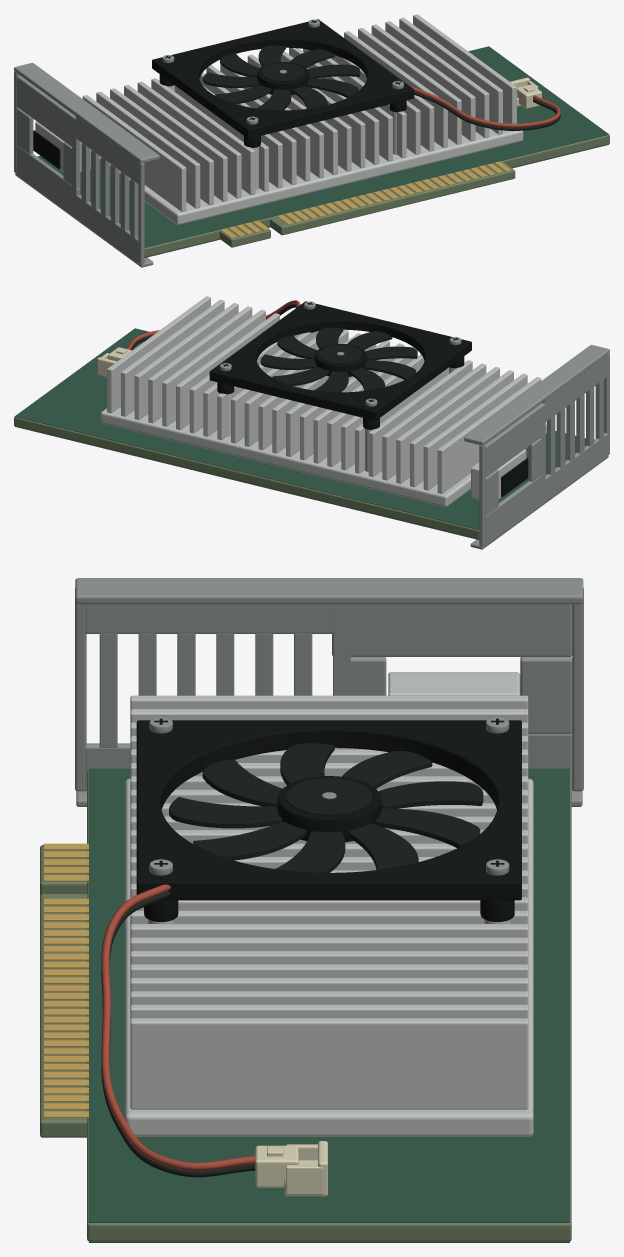
Rendered from gpu.glb.
3 views of the same model, one above another, from view 1: azimuth 30°, elevation 25°; view 2: azimuth 150°, elevation 25°; view 3: azimuth 270°, elevation 25° (orthographic). The views are drawn at different scales.
Visible parts, largest first — view 1: heatsink-fins, board-top, fan-housing, heatsink-base, connector-long, bracket-top-flange, bracket-port-rail.001, board-substrate, bracket-port-rail, bracket-vent-rail, bracket-vent-rail.001, fan-positive-wire (+26 smaller); view 2: heatsink-fins, board-top, fan-housing, heatsink-base, board-substrate, bracket-top-flange, bracket-port-rail.001, bracket-port-rail, bracket-vent-rail, bracket-vent-rail.001, bracket-side.001, display-port-shell (+22 smaller); view 3: heatsink-fins, board-top, fan-housing, heatsink-base, bracket-top-flange, bracket-port-rail.001, board-substrate, bracket-vent-rail.001, connector-long, bracket-port-side.001, fan-positive-wire, display-port-shell (+27 smaller).
Part boxes in pixels (bbox=[...]): heatsink-fins: bbox=[82, 14, 516, 211]; board-top: bbox=[37, 46, 608, 247]; fan-housing: bbox=[152, 19, 414, 138]; heatsink-base: bbox=[90, 128, 523, 224]; connector-long: bbox=[270, 162, 515, 235]; bracket-top-flange: bbox=[14, 63, 159, 163]; bracket-port-rail.001: bbox=[16, 75, 80, 150]; board-substrate: bbox=[144, 135, 609, 257]; bracket-port-rail: bbox=[16, 145, 80, 218]; bracket-vent-rail: bbox=[76, 194, 139, 264]; bracket-vent-rail.001: bbox=[75, 116, 138, 183]; fan-positive-wire: bbox=[409, 85, 560, 127]; heatsink-fins: bbox=[107, 296, 541, 493]; board-top: bbox=[15, 328, 585, 529]; fan-housing: bbox=[209, 301, 471, 420]; heatsink-base: bbox=[100, 407, 546, 506]; board-substrate: bbox=[14, 417, 479, 539]; bracket-top-flange: bbox=[464, 345, 609, 445]; bracket-port-rail.001: bbox=[485, 403, 545, 476]; bracket-port-rail: bbox=[485, 474, 545, 546]; bracket-vent-rail: bbox=[545, 432, 607, 502]; bracket-vent-rail.001: bbox=[542, 354, 607, 421]; bracket-side.001: bbox=[479, 444, 485, 546]; display-port-shell: bbox=[471, 449, 526, 499]; heatsink-fins: bbox=[130, 695, 528, 1109]; board-top: bbox=[89, 768, 569, 1222]; fan-housing: bbox=[136, 720, 521, 900]; heatsink-base: bbox=[125, 778, 533, 1136]; bracket-top-flange: bbox=[75, 578, 583, 604]; bracket-port-rail.001: bbox=[332, 604, 572, 656]; board-substrate: bbox=[87, 770, 571, 1241]; bracket-vent-rail.001: bbox=[85, 604, 334, 633]; connector-long: bbox=[40, 894, 87, 1137]; bracket-port-side.001: bbox=[520, 657, 572, 733]; fan-positive-wire: bbox=[101, 884, 255, 1170]; display-port-shell: bbox=[388, 672, 520, 695].
Bounding box in the file's own units: 6.04 × 1.33 × 3.01.
